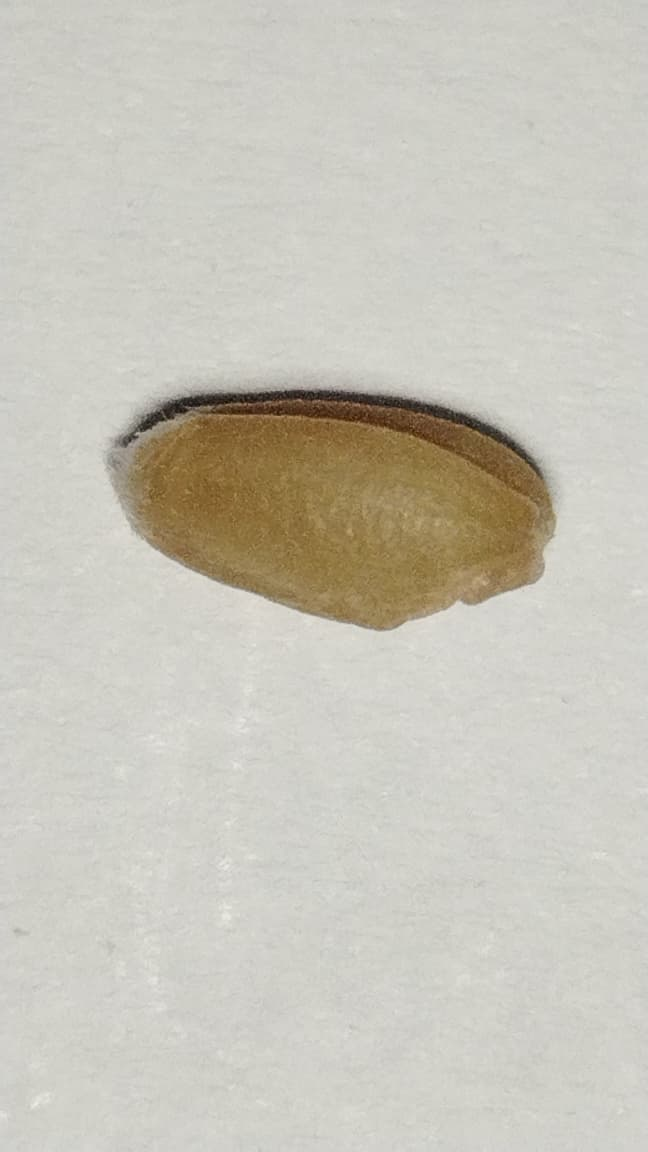healthy: (113, 390, 553, 628)
